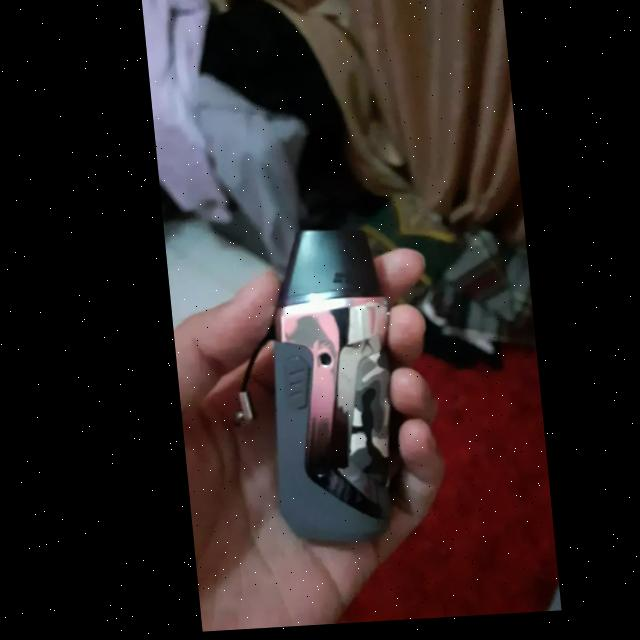vape: (245, 229, 398, 549)
